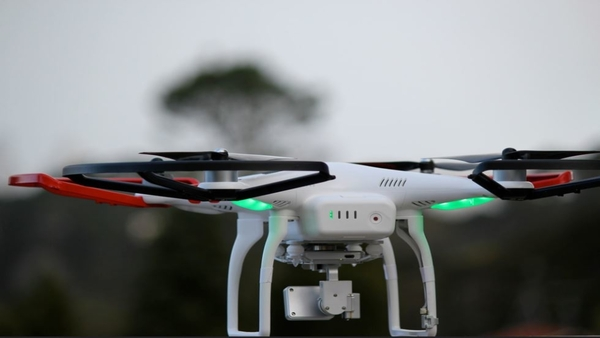drone: (8, 149, 599, 338)
